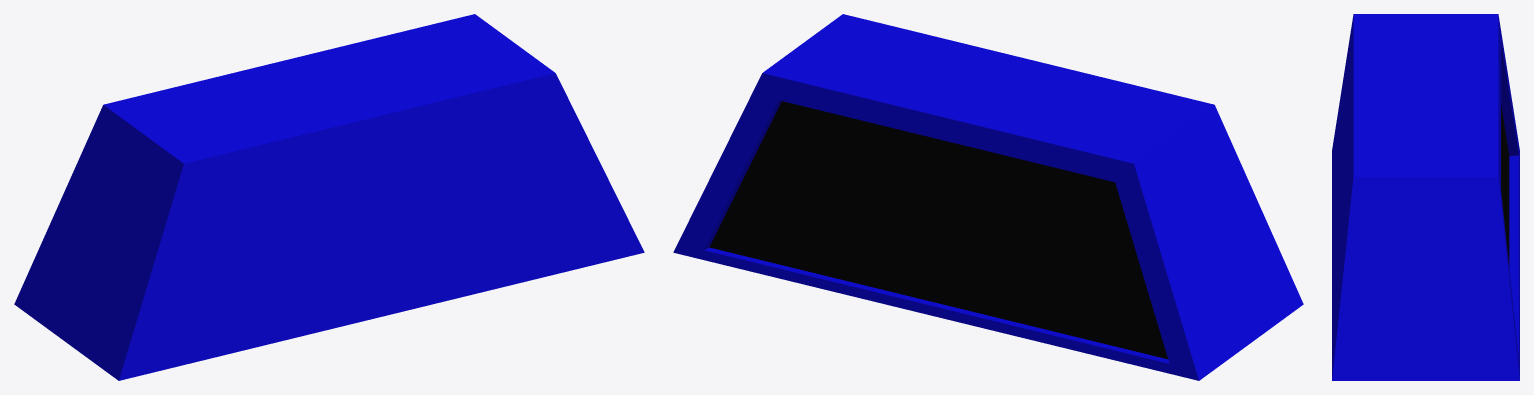
Rendered from TimeDisplay.fbx.
3 renders of one model, left to right at view 1: azimuth 30°, elevation 25°; view 2: azimuth 150°, elevation 25°; view 3: azimuth 270°, elevation 25°, orthographic. The views are drawn at different scales.
Parts seen in each view (by area): view 1: Cube; view 2: Cube; view 3: Cube.
Boxes of the visible parts, x1,y1,x2,y2 form: Cube: (14, 14, 644, 380); Cube: (673, 14, 1303, 380); Cube: (1332, 14, 1519, 380).
Bounding box in the file's own units: 174 × 60 × 60.
